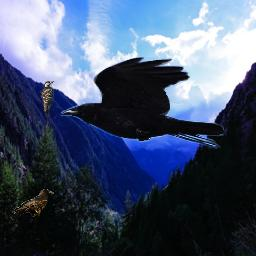Crow: (61, 57, 225, 149), (11, 188, 54, 221)
Woodpecker: (38, 81, 55, 119)
